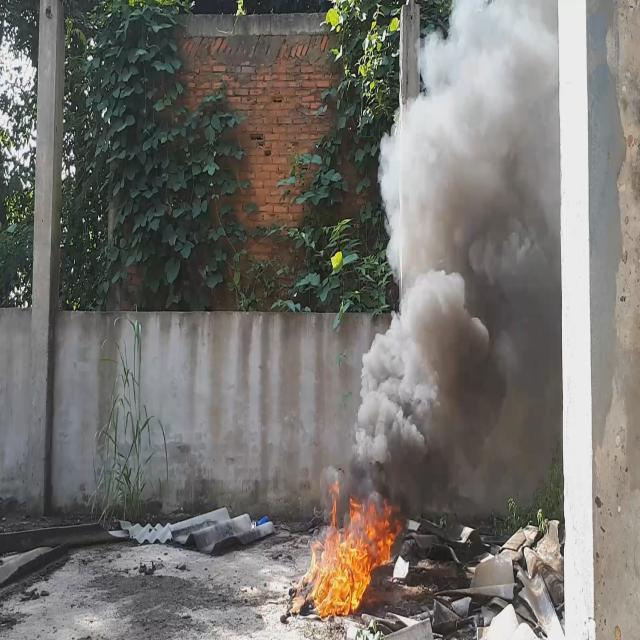Fire: (308, 480, 400, 616)
Smoke: (354, 0, 557, 510)
